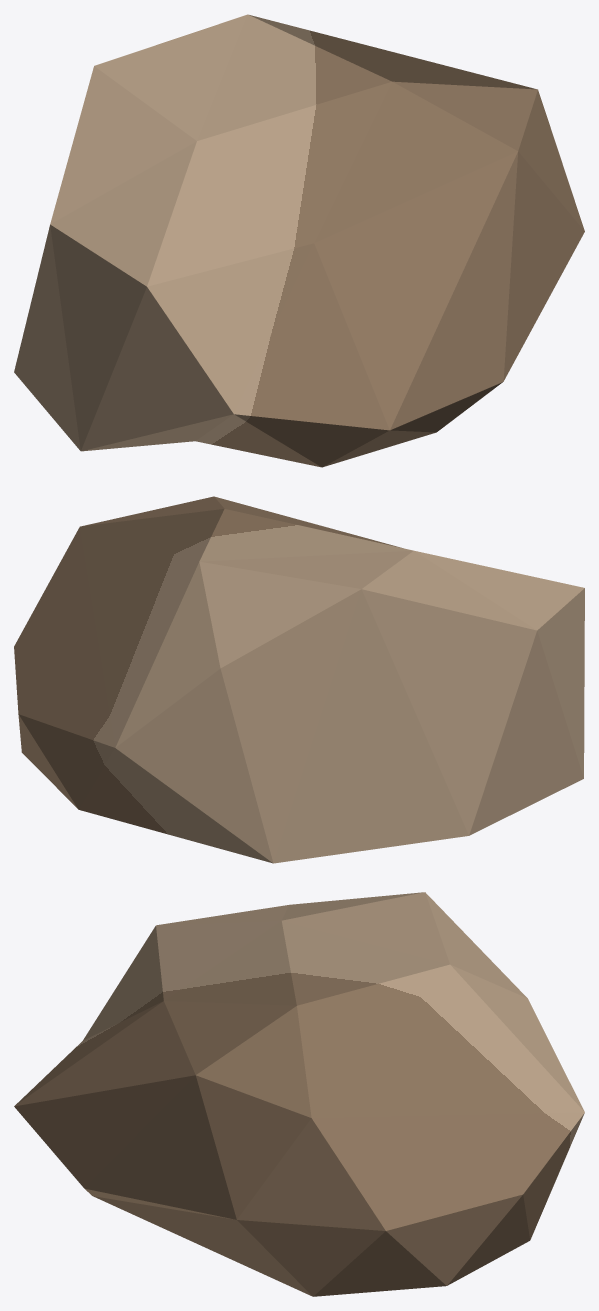
The model's file is stone_03.fbx.
The picture shows the model from 3 angles, top to bottom: view 1: azimuth 30°, elevation 25°; view 2: azimuth 150°, elevation 25°; view 3: azimuth 270°, elevation 25°; orthographic projection. The views are drawn at different scales.
Visible parts, largest first — view 1: stone_03; view 2: stone_03; view 3: stone_03.
Boxes of the visible parts, x1=… form: stone_03: x1=14, y1=14, x2=584, y2=467; stone_03: x1=14, y1=496, x2=584, y2=863; stone_03: x1=14, y1=892, x2=584, y2=1296.
Size of the model in its own units: 9.42 by 4.43 by 9.67.
Materials: 1 (1 with a texture image).
